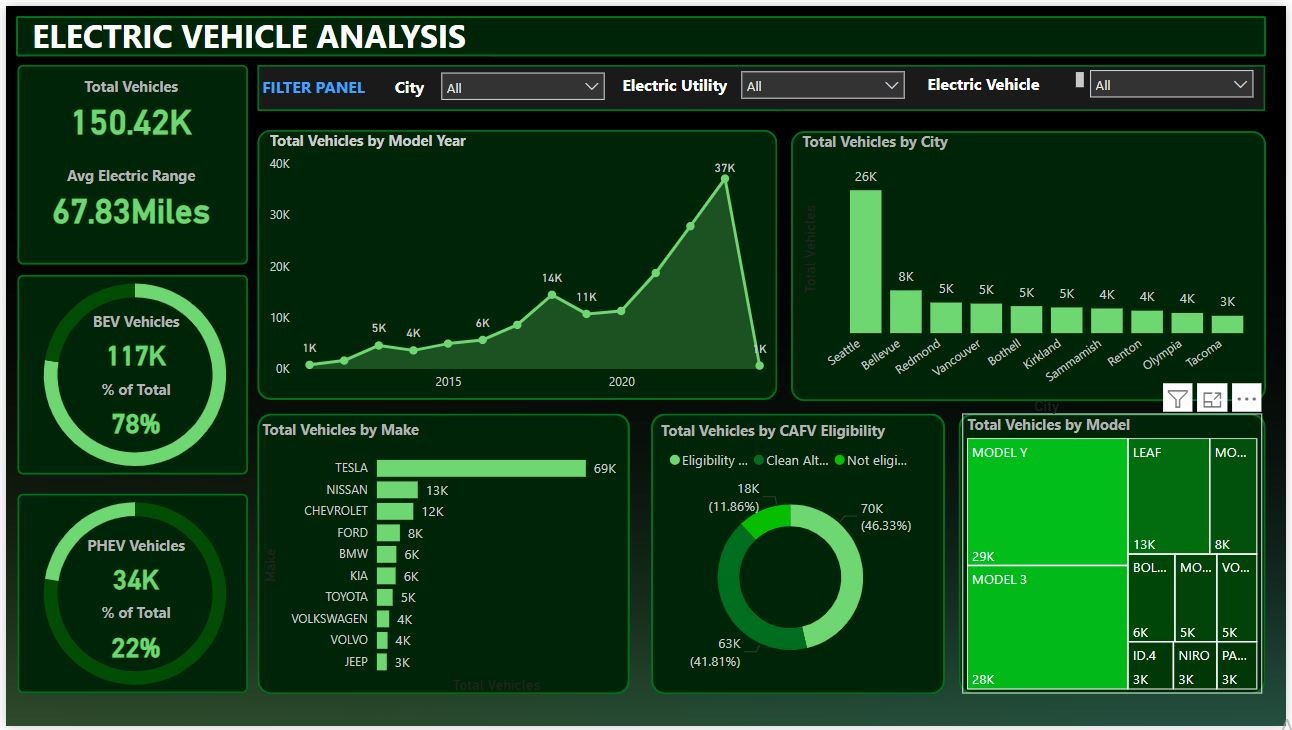

What the dashboard file says about the page in this screenshot:
{"tool":"powerbi","page":{"name":"Page 1","canvas":[1280,720],"ordinal":0},"visuals":[{"type":"shape","box":[9.5,9.5,1250,40.5],"z":0},{"type":"shape","box":[10.7,58.3,231,200],"z":1000},{"type":"card","title":"Total Vehicles","fields":{"Values":["Electric_Vehicle_Population_Data.Total Vehicles"]},"box":[25,70.2,200,67.9],"z":2000},{"type":"card","title":"Avg Electric Range","fields":{"Values":["Electric_Vehicle_Population_Data.Avg Range"]},"box":[39.3,158.3,172.6,67.9],"z":3000},{"type":"shape","box":[10.7,269,231,200],"z":4000},{"type":"shape","box":[10.7,488.1,231,200],"z":5000},{"type":"card","title":"BEV Vehicles","fields":{"Values":["Electric_Vehicle_Population_Data.BEV Vehicles"]},"box":[29.8,304.8,200,67.9],"z":6000},{"type":"donutChart","fields":{"Category":["Electric_Vehicle_Population_Data.Electric Vehicle Type"],"Y":["Electric_Vehicle_Population_Data.Total Vehicles"]},"box":[0,250,258.3,238.1],"z":7000},{"type":"card","title":"% of Total","fields":{"Values":["Electric_Vehicle_Population_Data.% of BEV"]},"box":[29.8,372.6,200,67.9],"z":8000},{"type":"donutChart","fields":{"Category":["Electric_Vehicle_Population_Data.Electric Vehicle Type"],"Y":["Electric_Vehicle_Population_Data.Total Vehicles"]},"box":[0,469.1,258.3,238.1],"z":9000},{"type":"card","title":"PHEV Vehicles","fields":{"Values":["Electric_Vehicle_Population_Data.PHEV Vehicles"]},"box":[29.8,528.6,200,67.9],"z":10000},{"type":"card","title":"% of Total","fields":{"Values":["Electric_Vehicle_Population_Data.% of PHEV"]},"box":[29.8,596.4,200,67.9],"z":11000},{"type":"shape","box":[251.2,58.3,1008.3,46.4],"z":12000},{"type":"shape","box":[251.2,123.8,520.2,270.2],"z":13000},{"type":"areaChart","fields":{"Category":["Electric_Vehicle_Population_Data.Model Year"],"Y":["Electric_Vehicle_Population_Data.Total Vehicles"]},"box":[258.3,123.8,513.1,270.2],"z":14000},{"type":"shape","box":[784.5,125,475,270.2],"z":15000},{"type":"shape","box":[251.2,407.1,372.6,281],"z":16000},{"type":"barChart","fields":{"Category":["Electric_Vehicle_Population_Data.Make"],"Y":["Electric_Vehicle_Population_Data.Total Vehicles"]},"box":[251.2,413.1,364.3,279.8],"z":17000},{"type":"shape","box":[645.2,407.1,294,281],"z":18000},{"type":"donutChart","title":"Total Vehicles by CAFV Eligibility","fields":{"Category":["Electric_Vehicle_Population_Data.Clean Alternative Fuel Vehicle (CAFV) Eligibility"],"Y":["Electric_Vehicle_Population_Data.Total Vehicles"]},"box":[650,414.3,269,265.5],"z":19000},{"type":"shape","box":[952.4,407.1,307.1,281],"z":20000},{"type":"treemap","fields":{"Group":["Electric_Vehicle_Population_Data.Model"],"Values":["Electric_Vehicle_Population_Data.Total Vehicles"]},"box":[956,407.1,300,281],"z":21000},{"type":"textbox","box":[251.2,65.5,123.8,53.6],"z":22000},{"type":"slicer","fields":{"Values":["Electric_Vehicle_Population_Data.City"]},"box":[424.6,56,183.3,42.9],"z":23000},{"type":"textbox","box":[21.4,2.4,460.7,53.6],"z":24000},{"type":"textbox","box":[383.1,65.5,52.4,33.3],"z":25000},{"type":"slicer","fields":{"Values":["Electric_Vehicle_Population_Data.Electric Utility"]},"box":[724.8,54.8,183.3,42.9],"z":26000},{"type":"slicer","fields":{"Values":["Electric_Vehicle_Population_Data.Electric Vehicle Type"]},"box":[1073.6,53.6,183.3,42.9],"z":27000},{"type":"textbox","box":[916.5,60.7,166.7,33.3],"z":28000},{"type":"textbox","box":[611.7,63.1,167.9,33.3],"z":29000},{"type":"columnChart","fields":{"Category":["Electric_Vehicle_Population_Data.City"],"Y":["Electric_Vehicle_Population_Data.Total Vehicles"]},"box":[791.8,124.9,467.9,288.2],"z":30000}]}

Visuals, with their boxes in screenshot pixels (x1, y1, x2, y2), scaled from the page's 1280x720 canvas onto the 1292x730 screenshot:
shape: {"left": 10, "top": 10, "right": 1271, "bottom": 51}
shape: {"left": 11, "top": 59, "right": 244, "bottom": 262}
"Total Vehicles" card: {"left": 25, "top": 71, "right": 227, "bottom": 140}
"Avg Electric Range" card: {"left": 40, "top": 160, "right": 214, "bottom": 229}
shape: {"left": 11, "top": 273, "right": 244, "bottom": 476}
shape: {"left": 11, "top": 495, "right": 244, "bottom": 698}
"BEV Vehicles" card: {"left": 30, "top": 309, "right": 232, "bottom": 378}
donutChart - Electric_Vehicle_Population_Data.Electric Vehicle Type x Electric_Vehicle_Population_Data.Total Vehicles: {"left": 0, "top": 253, "right": 261, "bottom": 495}
"% of Total" card: {"left": 30, "top": 378, "right": 232, "bottom": 447}
donutChart - Electric_Vehicle_Population_Data.Electric Vehicle Type x Electric_Vehicle_Population_Data.Total Vehicles: {"left": 0, "top": 476, "right": 261, "bottom": 717}
"PHEV Vehicles" card: {"left": 30, "top": 536, "right": 232, "bottom": 605}
"% of Total" card: {"left": 30, "top": 605, "right": 232, "bottom": 674}
shape: {"left": 254, "top": 59, "right": 1271, "bottom": 106}
shape: {"left": 254, "top": 126, "right": 779, "bottom": 399}
areaChart - Electric_Vehicle_Population_Data.Model Year x Electric_Vehicle_Population_Data.Total Vehicles: {"left": 261, "top": 126, "right": 779, "bottom": 399}
shape: {"left": 792, "top": 127, "right": 1271, "bottom": 401}
shape: {"left": 254, "top": 413, "right": 630, "bottom": 698}
barChart - Electric_Vehicle_Population_Data.Make x Electric_Vehicle_Population_Data.Total Vehicles: {"left": 254, "top": 419, "right": 621, "bottom": 703}
shape: {"left": 651, "top": 413, "right": 948, "bottom": 698}
"Total Vehicles by CAFV Eligibility" donutChart: {"left": 656, "top": 420, "right": 928, "bottom": 689}
shape: {"left": 961, "top": 413, "right": 1271, "bottom": 698}
treemap - Electric_Vehicle_Population_Data.Model x Electric_Vehicle_Population_Data.Total Vehicles: {"left": 965, "top": 413, "right": 1268, "bottom": 698}
textbox: {"left": 254, "top": 66, "right": 379, "bottom": 121}
slicer - Electric_Vehicle_Population_Data.City: {"left": 429, "top": 57, "right": 614, "bottom": 100}
textbox: {"left": 22, "top": 2, "right": 487, "bottom": 57}
textbox: {"left": 387, "top": 66, "right": 440, "bottom": 100}
slicer - Electric_Vehicle_Population_Data.Electric Utility: {"left": 732, "top": 56, "right": 917, "bottom": 99}
slicer - Electric_Vehicle_Population_Data.Electric Vehicle Type: {"left": 1084, "top": 54, "right": 1269, "bottom": 98}
textbox: {"left": 925, "top": 62, "right": 1093, "bottom": 95}
textbox: {"left": 617, "top": 64, "right": 787, "bottom": 98}
columnChart - Electric_Vehicle_Population_Data.City x Electric_Vehicle_Population_Data.Total Vehicles: {"left": 799, "top": 127, "right": 1272, "bottom": 419}
